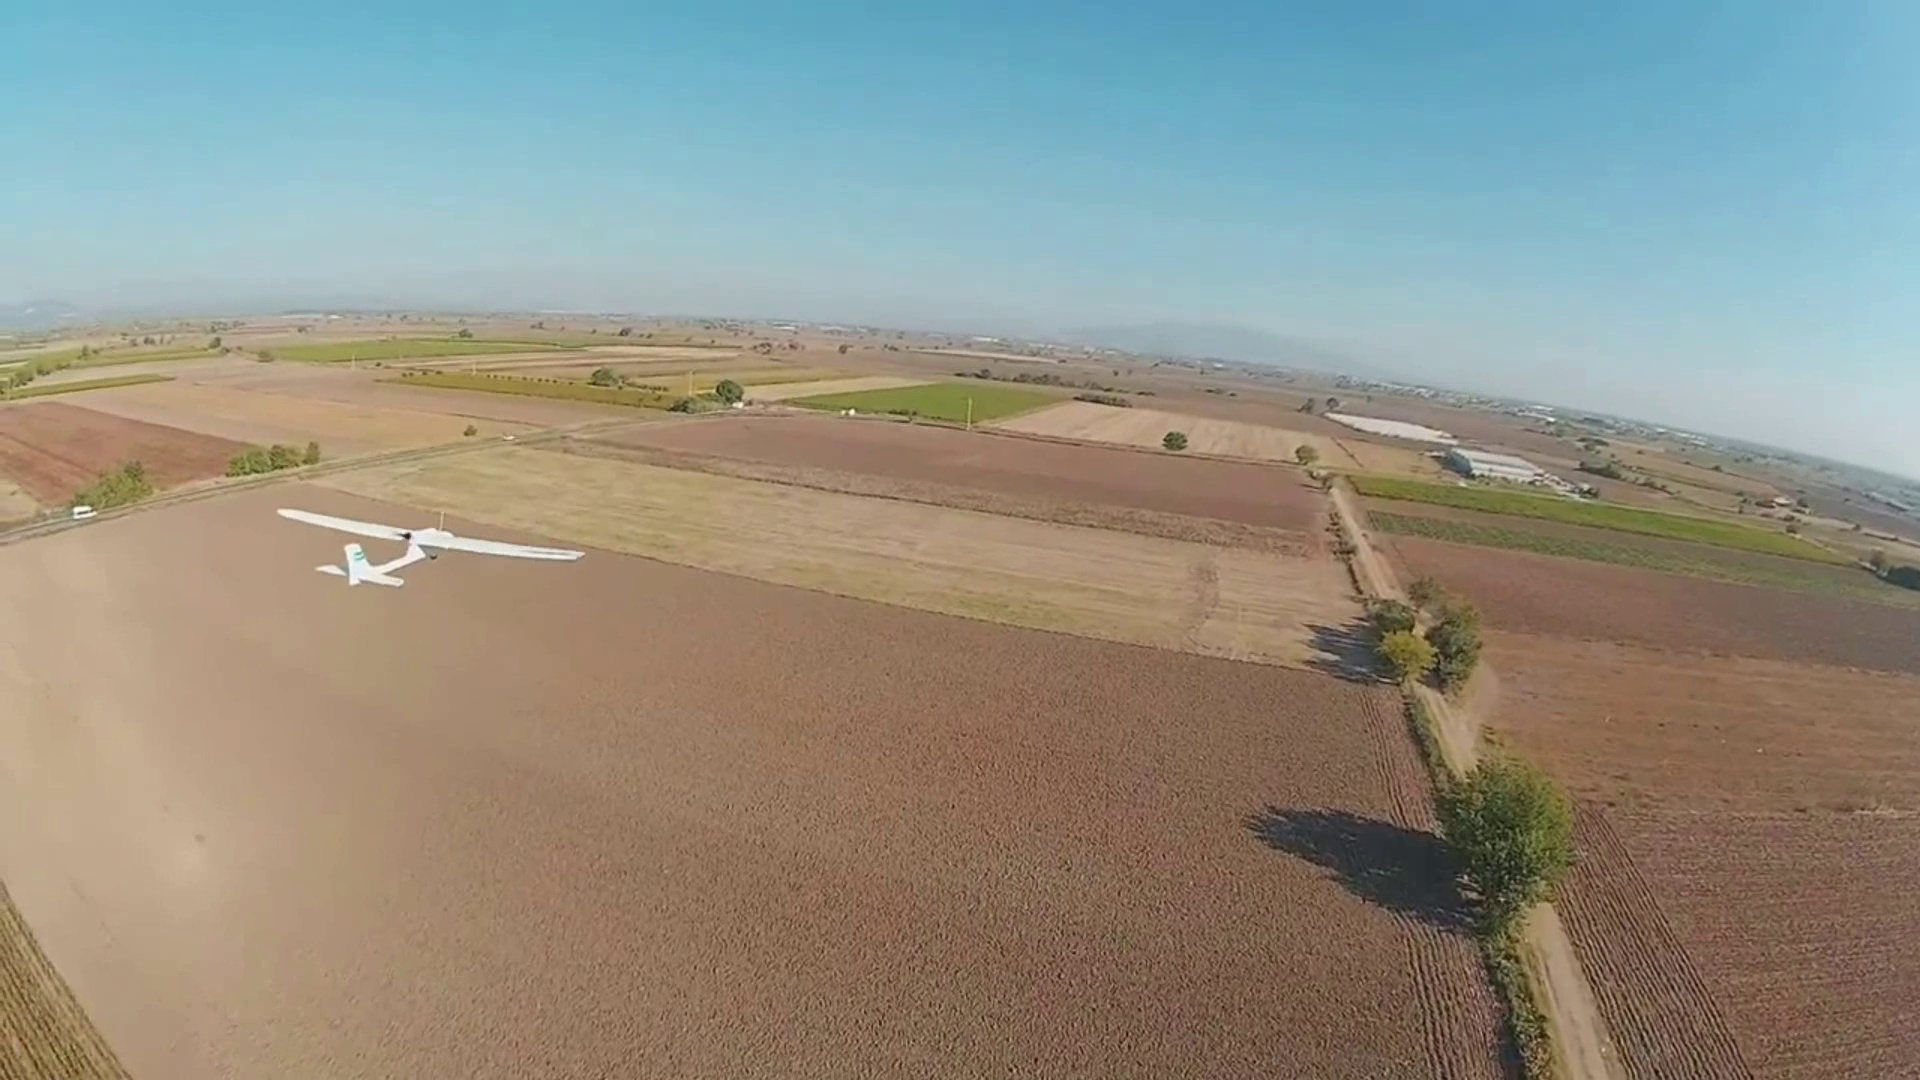airplane: (273, 500, 584, 588)
